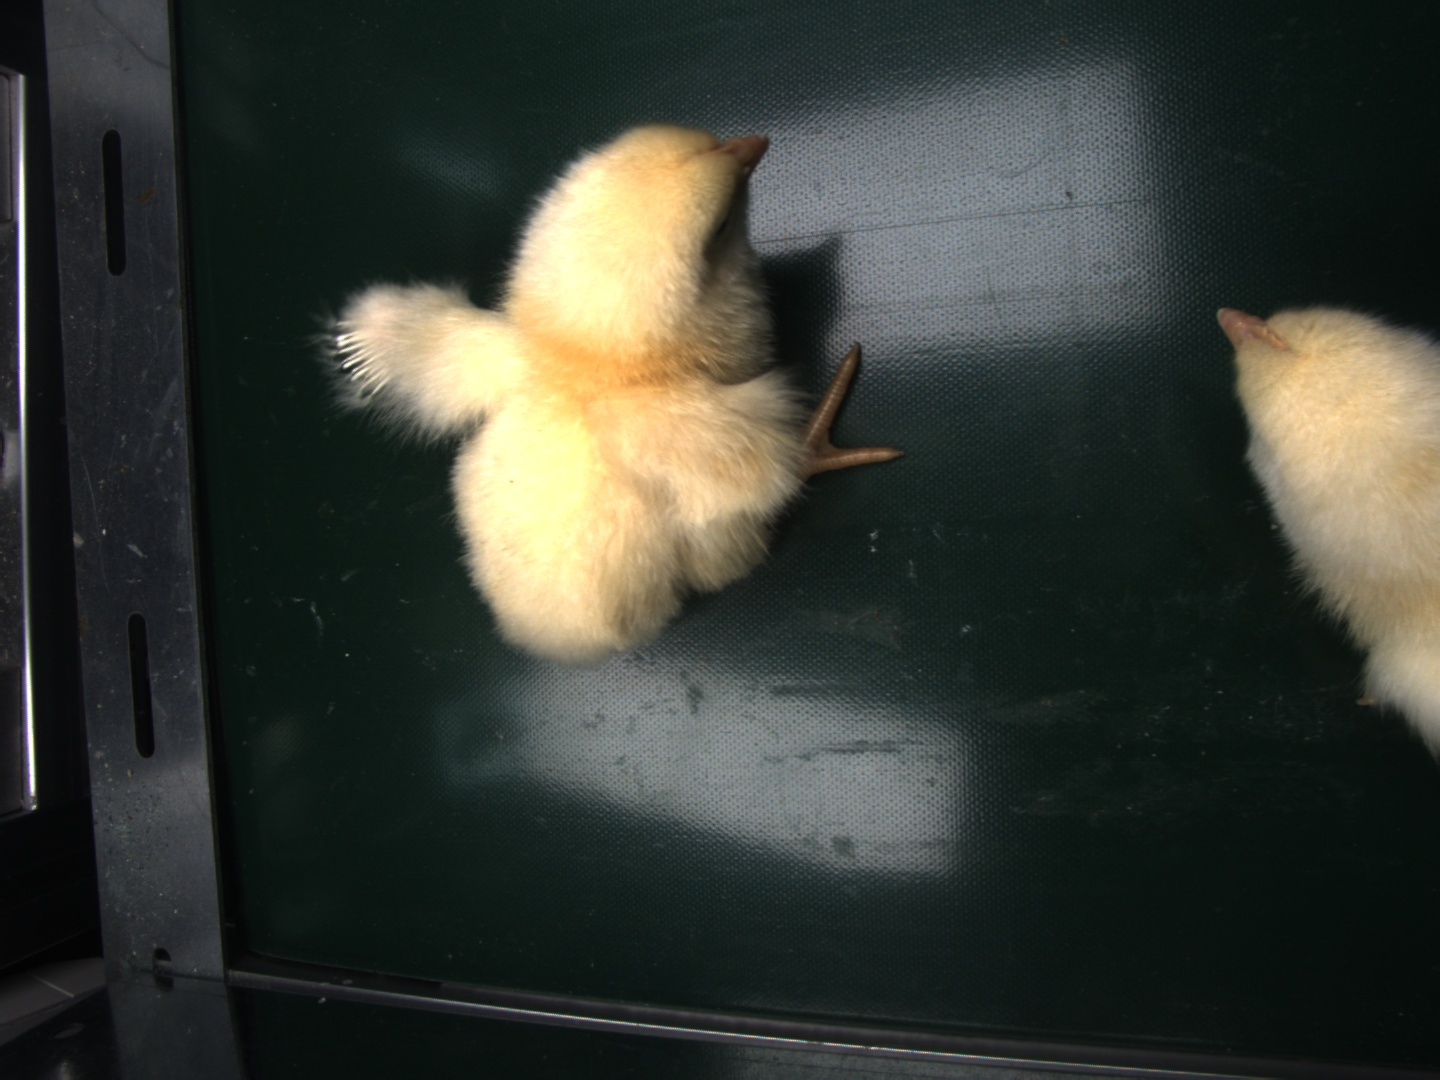male: (331, 326, 389, 397)
